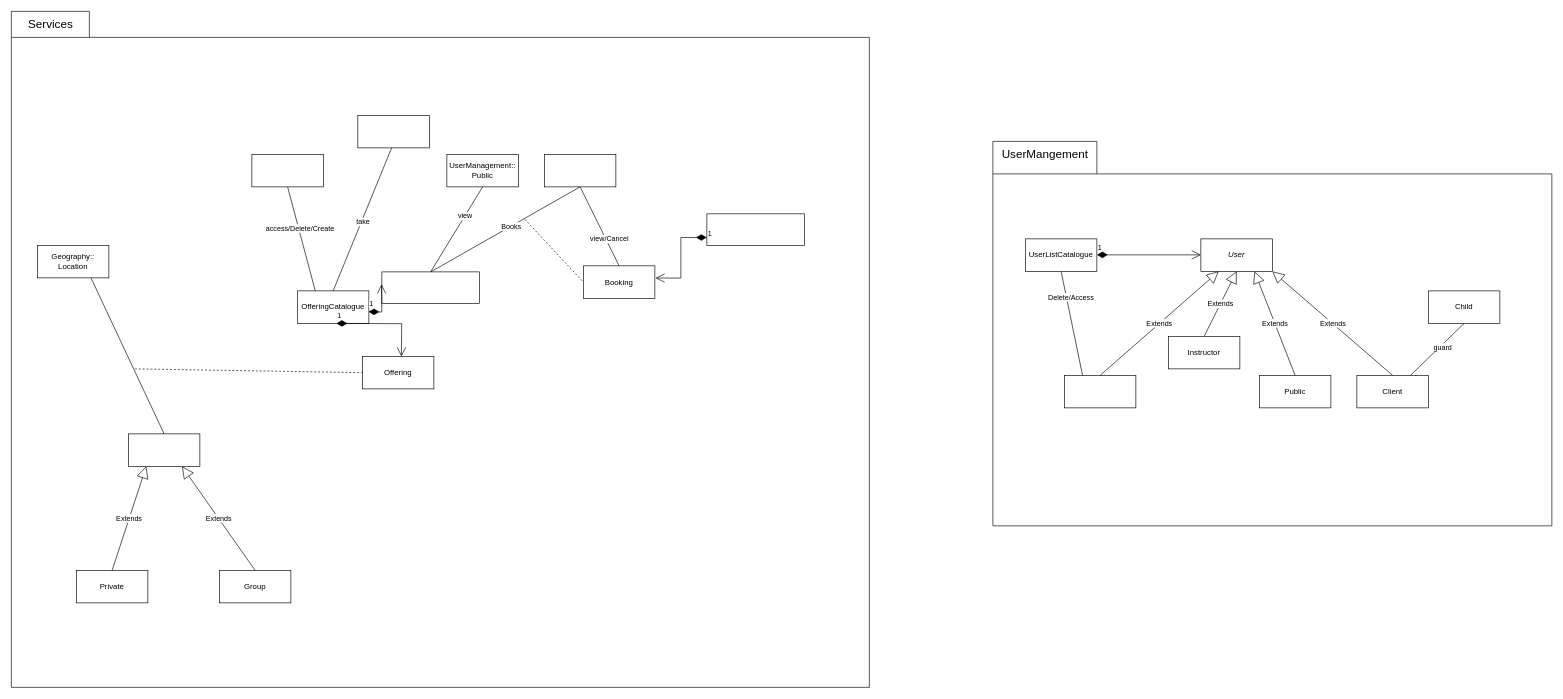
Image size: 1563x699. Some labels were removed from this diagram. Each missing label, with the centre of its shape:
admin: pixel 1100 391
BookingCatalogue: pixel 755 229
Lesson: pixel 164 449
PublicOfferingCatalogue: pixel 430 287
UserManagement:: admin: pixel 287 170
UserManagement:: Client: pixel 580 170
UserManagement:: Instructor: pixel 393 131
